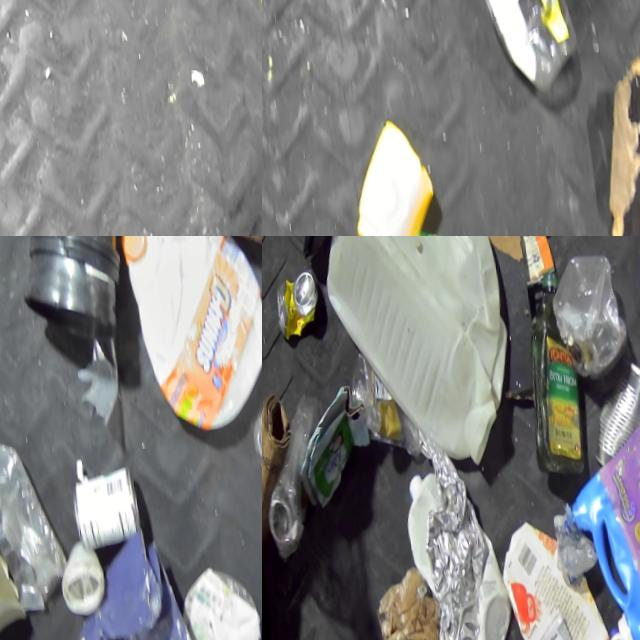can: (580, 350, 640, 469), (65, 466, 139, 550), (271, 269, 322, 344), (514, 236, 556, 291), (247, 409, 262, 471)
milk_jug: (313, 236, 522, 484), (115, 236, 262, 439)
non_white_jug: (557, 408, 640, 640), (44, 530, 192, 640), (2, 236, 139, 349)
plastic_bottle: (468, 0, 583, 97)
